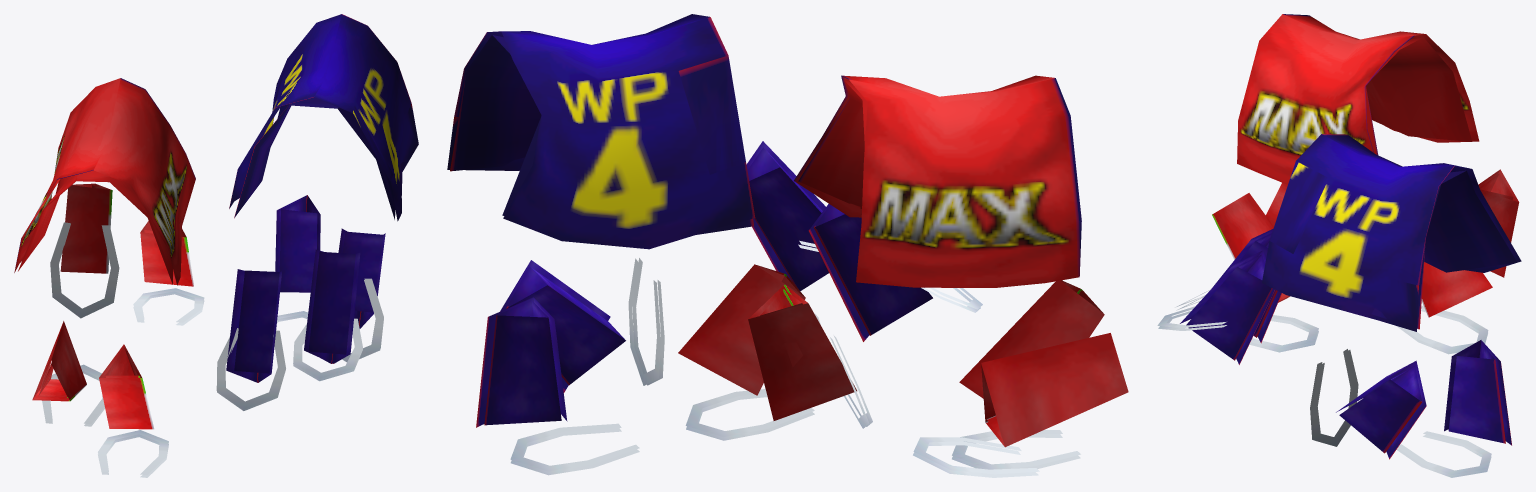
The model's file is wp4ps2.ico.obj.
The picture shows the model from 3 angles, left to right: view 1: azimuth 30°, elevation 25°; view 2: azimuth 150°, elevation 25°; view 3: azimuth 270°, elevation 25°; orthographic projection. The views are drawn at different scales.
Bounding box in the file's own units: 4.32 × 2.91 × 2.93.
Materials: 1 (1 with a texture image).
